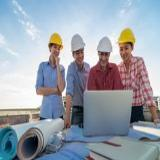Helmet: (115, 27, 136, 45), (47, 32, 64, 51), (96, 36, 113, 54), (70, 34, 86, 52)
